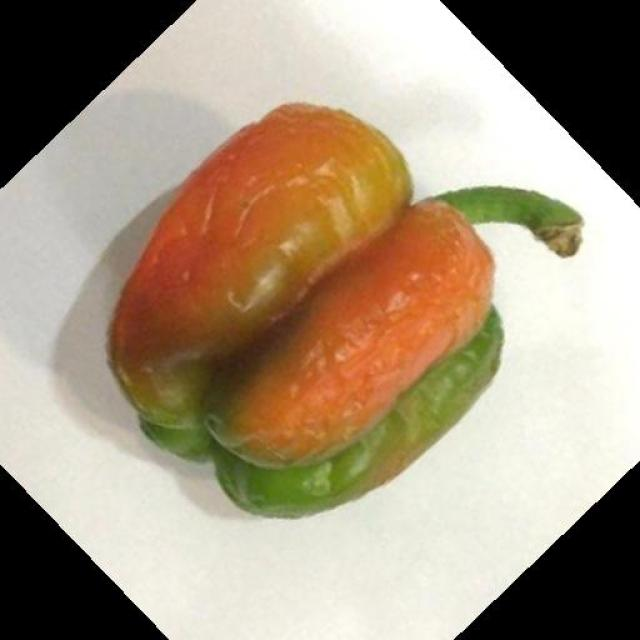Stale_Capsicum: (164, 71, 537, 509)
